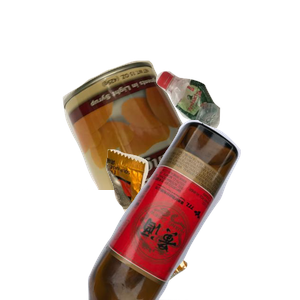glass: (85, 120, 300, 300)
metal: (60, 58, 300, 238)
plastic: (153, 68, 300, 190)
trash: (103, 147, 300, 300)
